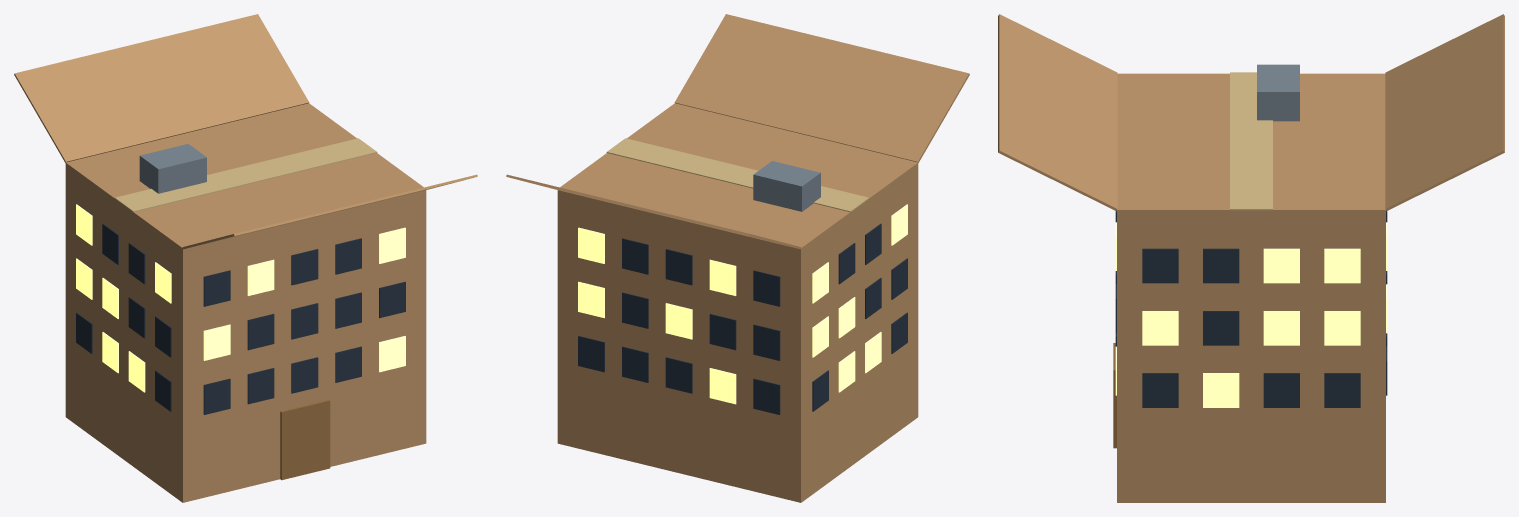
File: building_box.glb
3 renders of one model, left to right at view 1: azimuth 30°, elevation 25°; view 2: azimuth 150°, elevation 25°; view 3: azimuth 270°, elevation 25°, orthographic. The views are drawn at different scales.
Parts seen in each view (by area): view 1: building_box, group_1, group_46; view 2: building_box, group_17, group_46; view 3: building_box, group_33.
Part boxes in pixels (x1,y1,x2,y2): building_box: (14, 14, 477, 502); group_1: (203, 227, 405, 414); group_46: (76, 204, 171, 411); building_box: (506, 14, 969, 502); group_17: (578, 227, 780, 414); group_46: (812, 204, 907, 411); building_box: (998, 14, 1504, 502); group_33: (1142, 248, 1360, 407).
Bounding box in the file's own units: 12.1 × 14.44 × 18.82.
